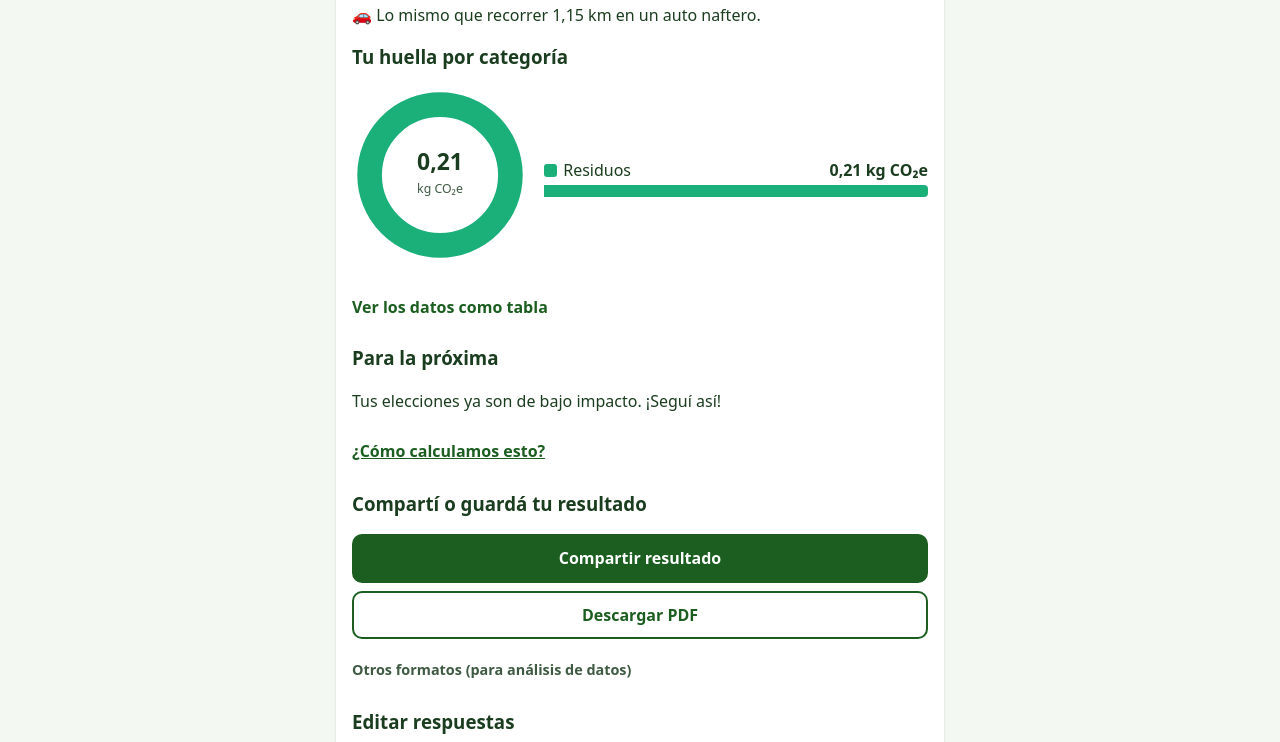
resultados › abre la metodología con la tabla de factores y fuentes
(page scrolled)
Click the button "¿Cómo calculamos esto?": [449, 451] box x1=352 y1=429 x2=545 y2=473
(page scrolled)
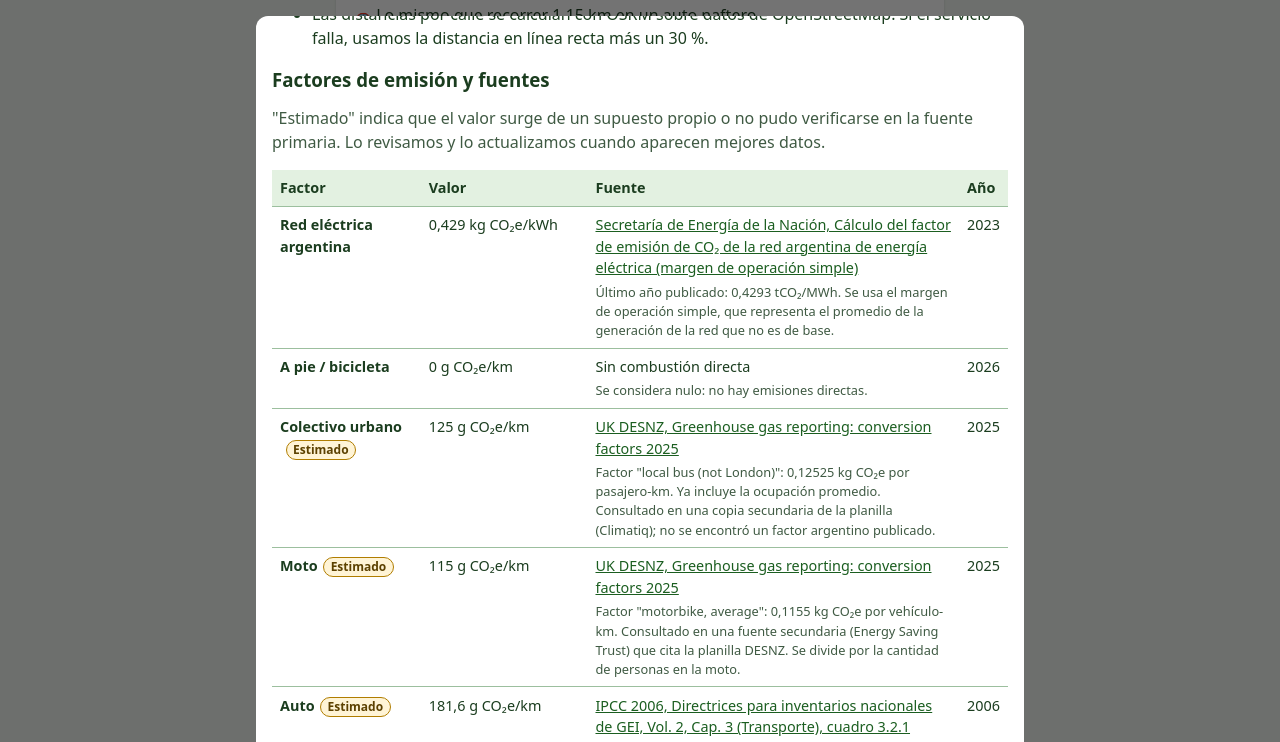
Now the column heading "Red eléctrica argentina" is shown, box x1=272 y1=206 x2=421 y2=348
Now the text "Estimado" below "Colectivo urbano" is shown, box x1=293 y1=440 x2=349 y2=458
